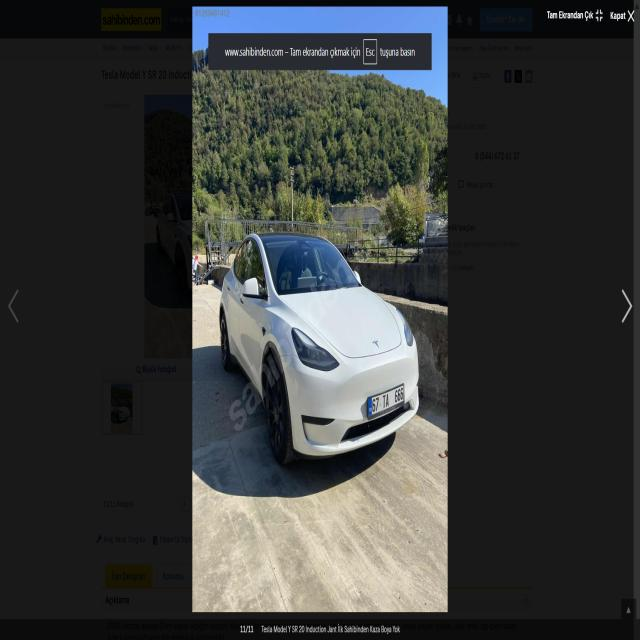tesla: (364, 332, 389, 355)
